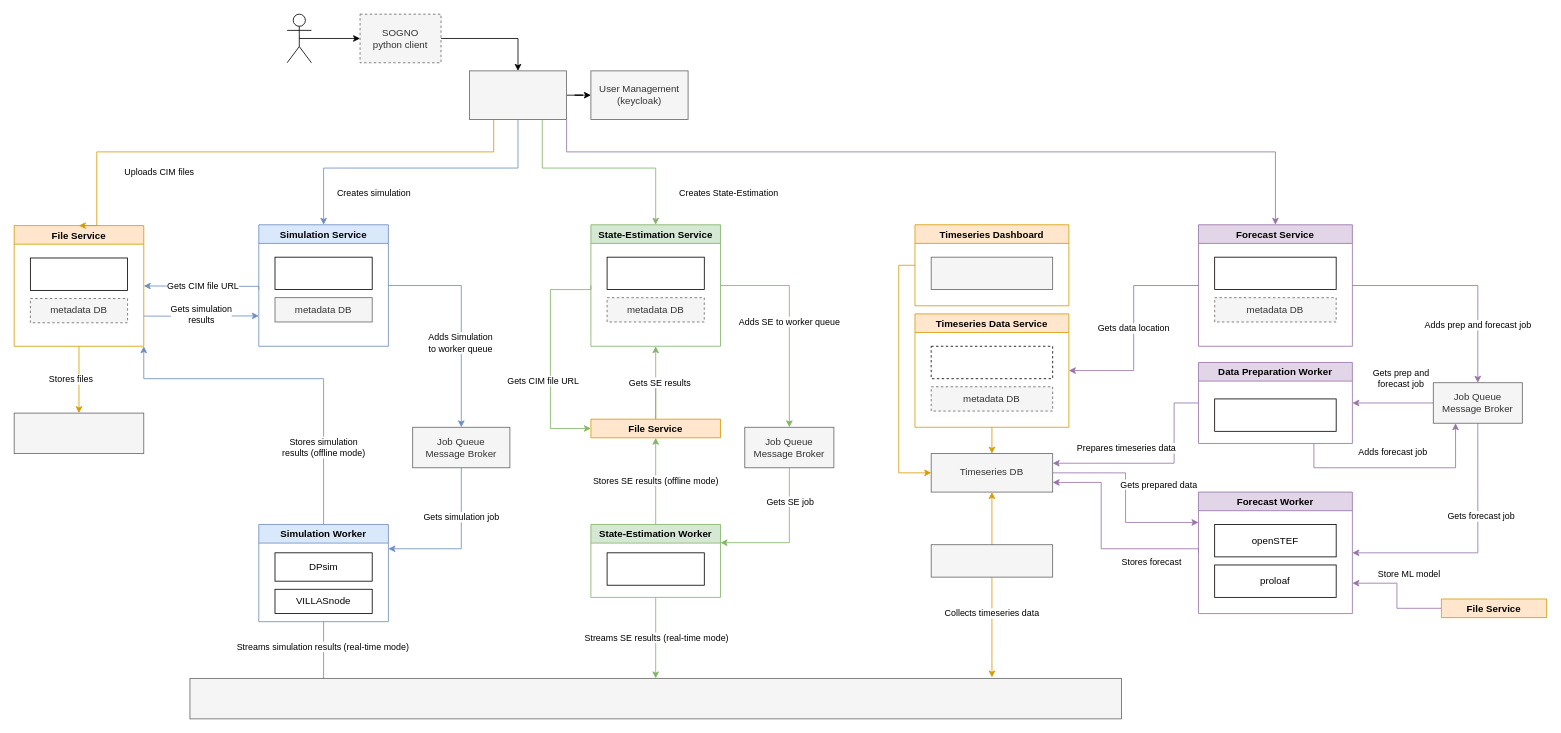
This 1561x733 diagram has some shape labels left out. The centre of each missing label's shape, as x and y in pixels:
"Adapters" belongs at [991,560].
"custom scripts" belongs at [1275,414].
"DPsim API" belongs at [323,273].
"Grafana" belongs at [991,273].
"openSTEF API" belongs at [1275,273].
"Process Bus Message Broker (only if services run in real-time mode)" belongs at [655,698].
"pyvolt" belongs at [655,568].
"Reverse Proxy" belongs at [518,94].
"S3 Object Storage" belongs at [78,433].
"sogno-file-service" belongs at [79,273].
"state-estimation API" belongs at [655,273].
"timeseries-service" belongs at [991,362].
"User" belongs at [298,38].
